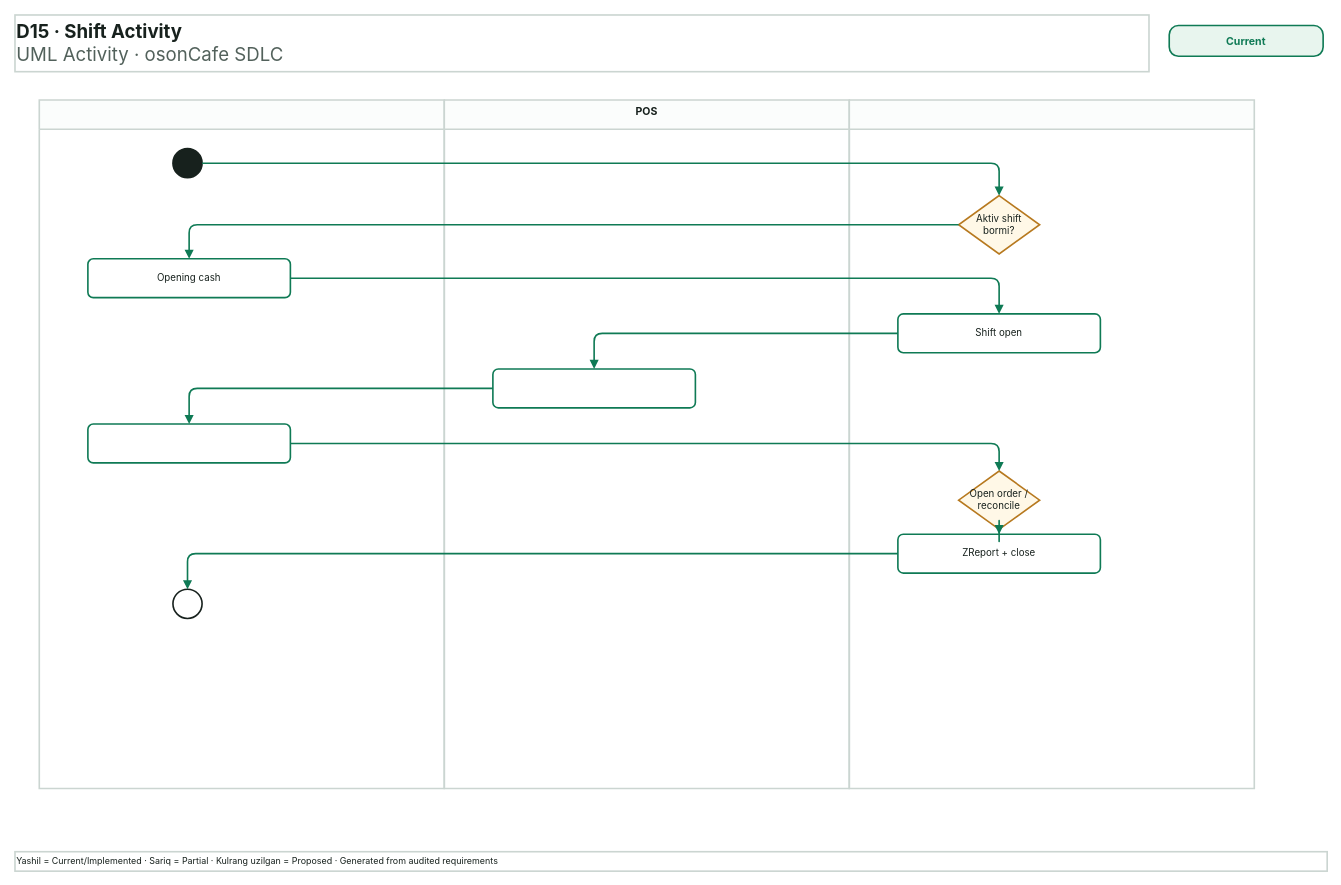
The diagram is 1341 pixels wide and 885 high, and some of its shapes have lost their labels. Each missing label, with the box of its shape:
Close request + actual: (87, 423, 291, 463)
Hub: (848, 99, 1255, 789)
Manager/Cashier: (38, 99, 445, 789)
Sales/cash movement loop: (492, 368, 696, 408)
